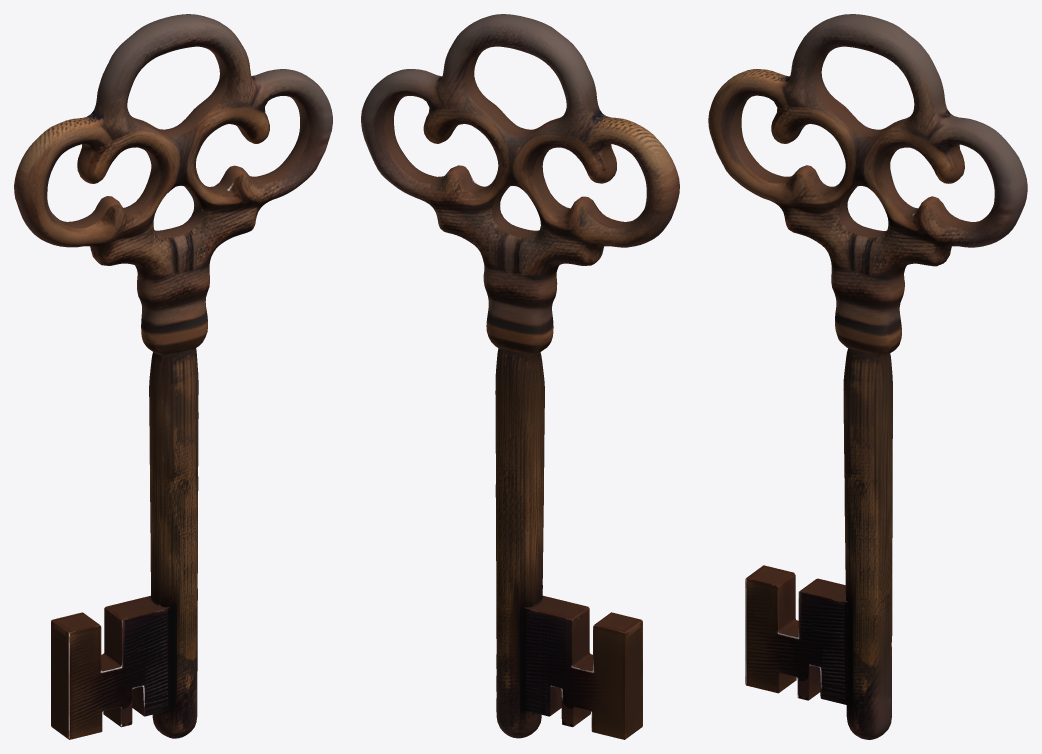
The model's file is vintage_ornamental_skeleton_key.glb.
The picture shows the model from 3 angles, left to right: view 1: azimuth 30°, elevation 25°; view 2: azimuth 150°, elevation 25°; view 3: azimuth 330°, elevation 25°; orthographic projection.
Parts seen in each view (by area): view 1: model_0; view 2: model_0; view 3: model_0.
Part boxes in pixels (x1=…): model_0: x1=14, y1=14, x2=332, y2=739; model_0: x1=361, y1=14, x2=679, y2=739; model_0: x1=708, y1=14, x2=1027, y2=739.
Size of the model in its own units: 0.3842 by 0.8457 by 0.0395.
Materials: 1 (1 with a texture image).
